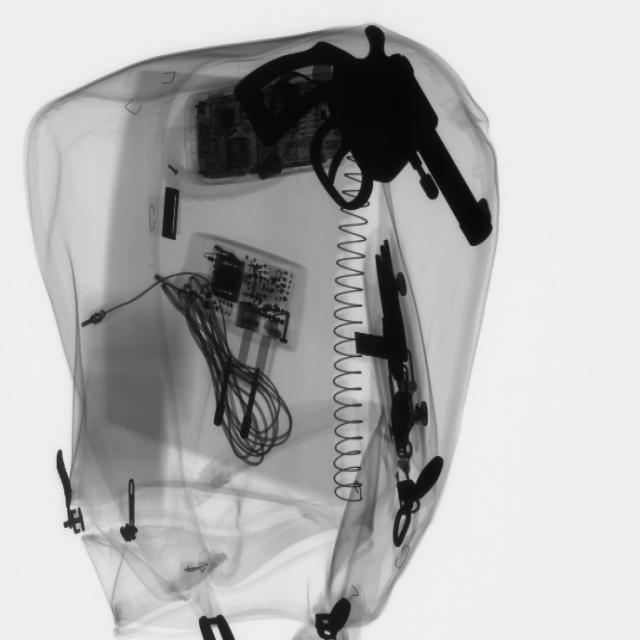GUN: (238, 23, 505, 268)
